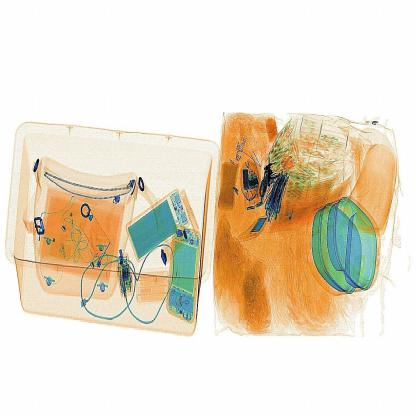pliers: (238, 211, 278, 242)
